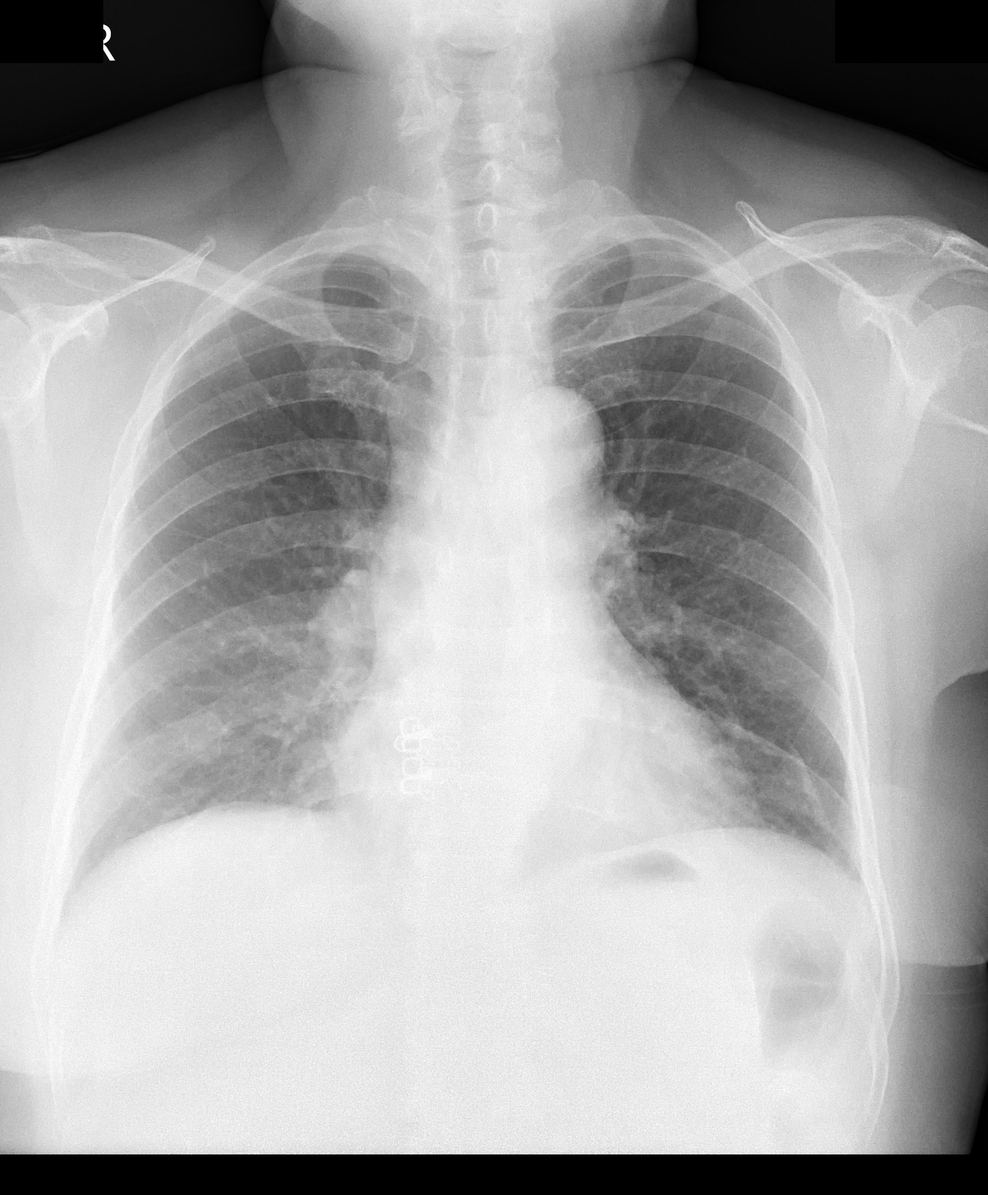Aortic enlargement: (488, 384, 604, 503)
Cardiomegaly: (323, 719, 755, 825)
Pulmonary fibrosis: (788, 741, 827, 834)
